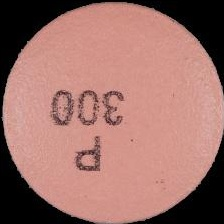64980-205: (0, 0, 224, 224)
